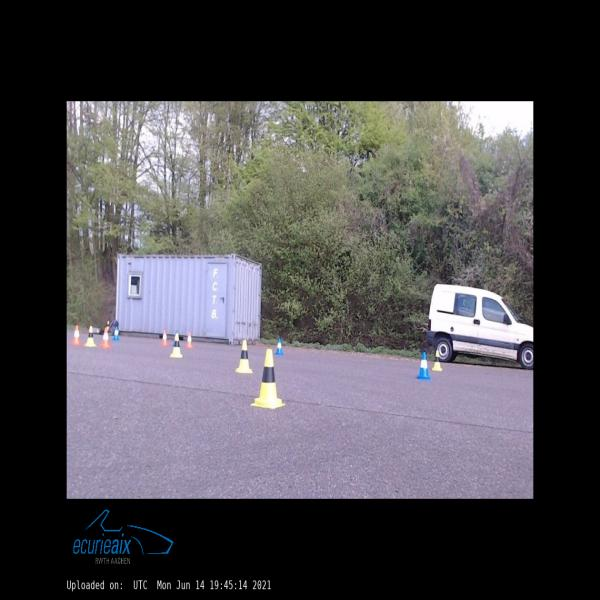blue_cone: (416, 352, 430, 380), (275, 338, 283, 354), (113, 326, 120, 340)
orange_cone: (100, 327, 110, 348), (72, 325, 81, 344), (161, 330, 169, 345), (186, 333, 193, 347)
yellow_cone: (250, 349, 286, 409), (235, 340, 253, 373), (170, 333, 182, 357), (432, 351, 442, 371), (86, 326, 95, 346), (106, 321, 110, 331)
